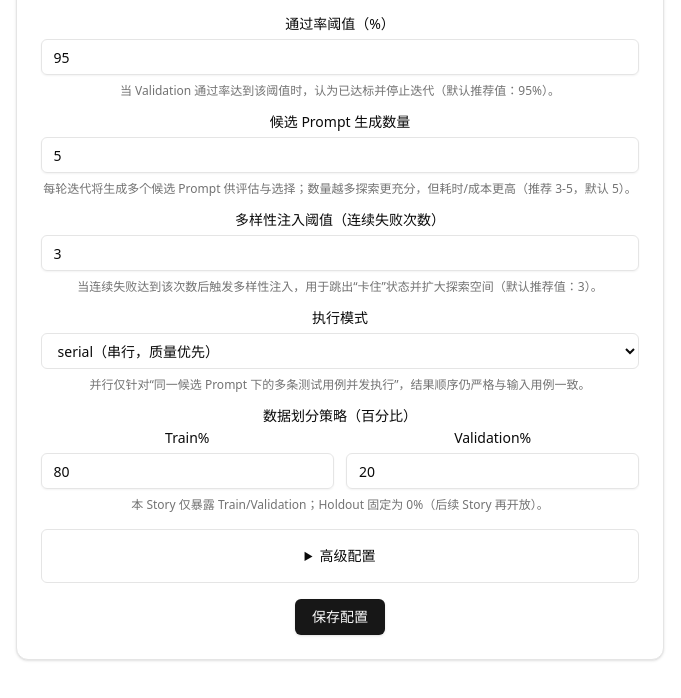
Test: OptimizationTaskConfigView › 切换到并行模式时应显示并发数输入，并发数越界应本地拦截且不发送请求
(page scrolled)
Check: the field labelled "并发数（max_concurrency）" is not shown
Select "parallel（并行，用例并发）" in the dropdown labelled "执行模式": (340, 351) left=41, top=333, right=639, bottom=369
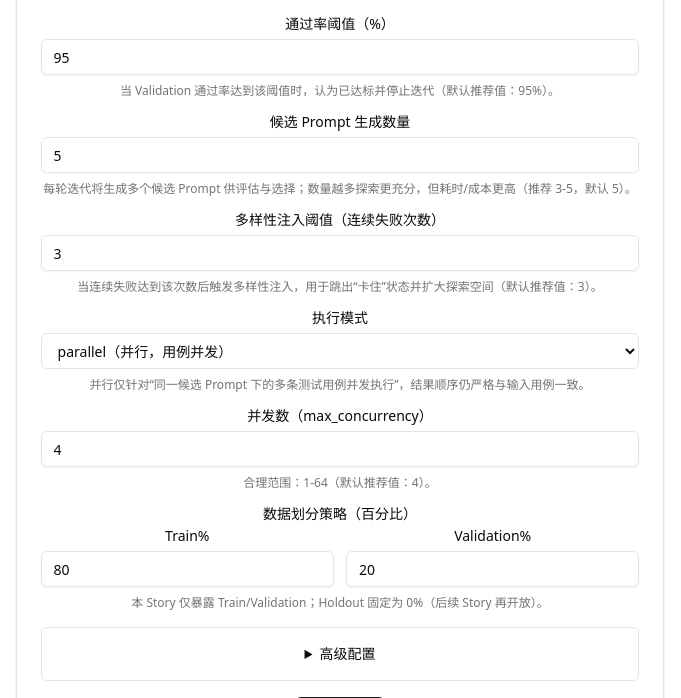
Check: the number field labelled "并发数（max_concurrency）" holds "4"
Replace the text in the number field labelled "并发数（max_concurrency）" with "0": (340, 449) left=41, top=431, right=639, bottom=467
(page scrolled)
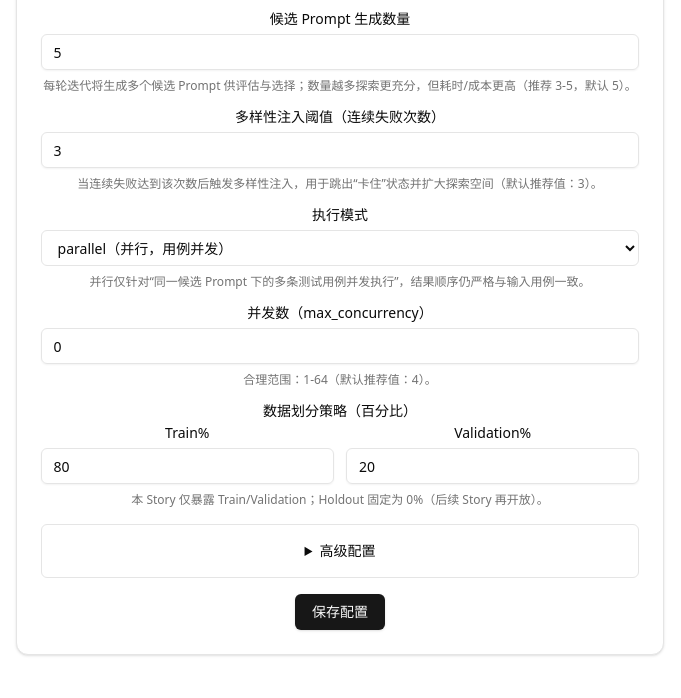
Click the button "保存配置": (340, 612) left=295, top=594, right=385, bottom=630
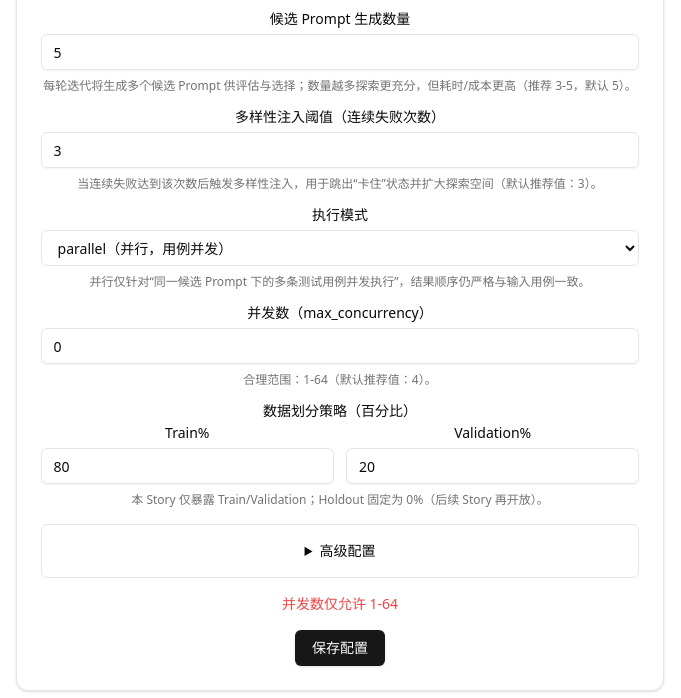
Check: the text "并发数仅允许 1-64" is shown, box left=282, top=594, right=398, bottom=613
